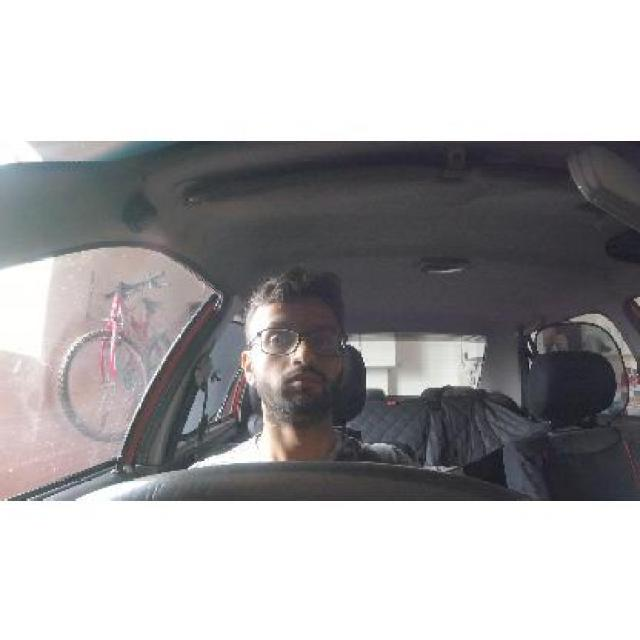person: (237, 264, 360, 424)
